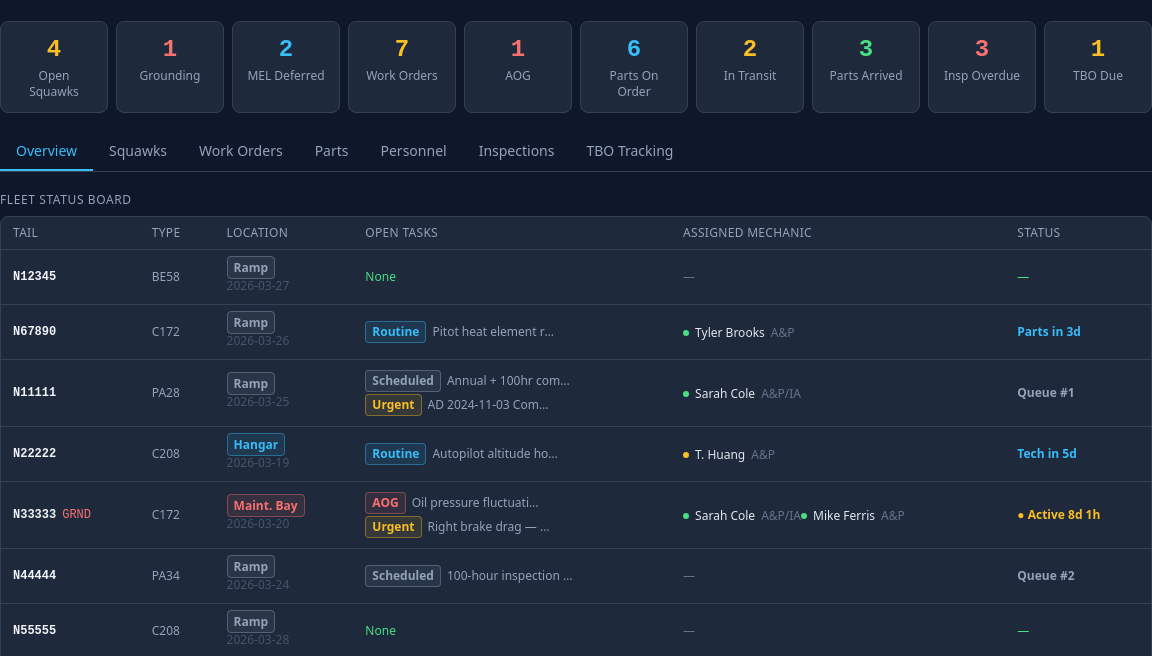
<Maintenance /> Work Orders — personnel and certificates › shows parts ETA status on parts_on_order WOs
What coordinates should you click on to do the following:
click the tab "Work Orders"
I would click on:
 (241, 152)
Its box is [183, 133, 299, 171].
(page scrolled)
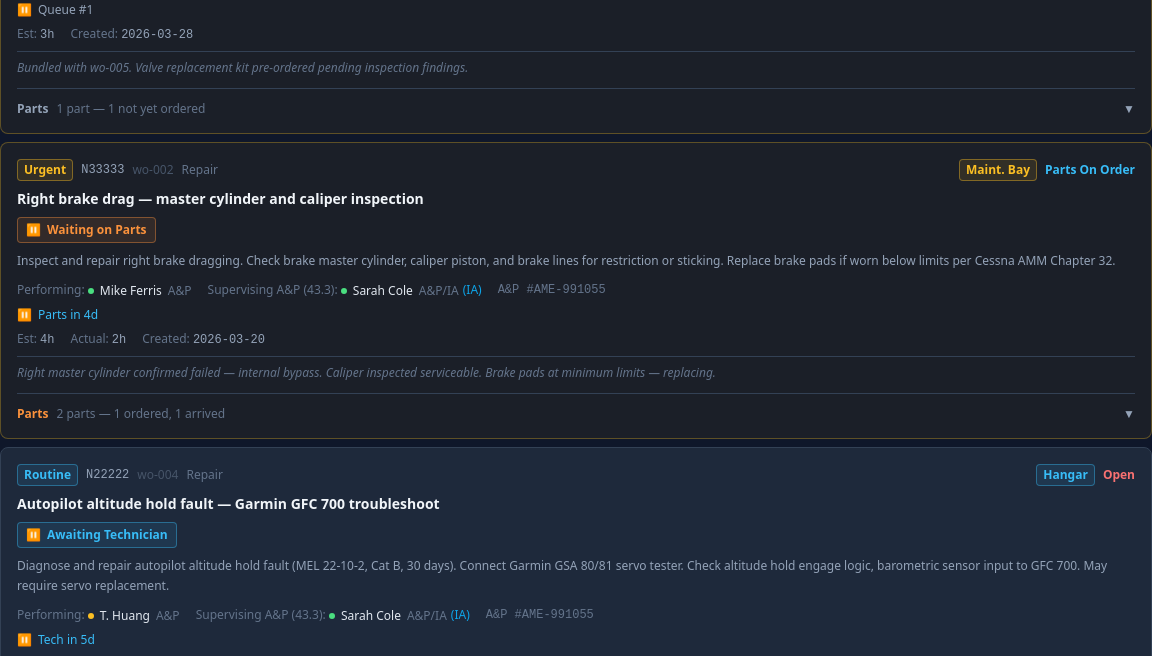
expect the text "Parts in 4d" is shown: met, box [38, 307, 98, 323]
